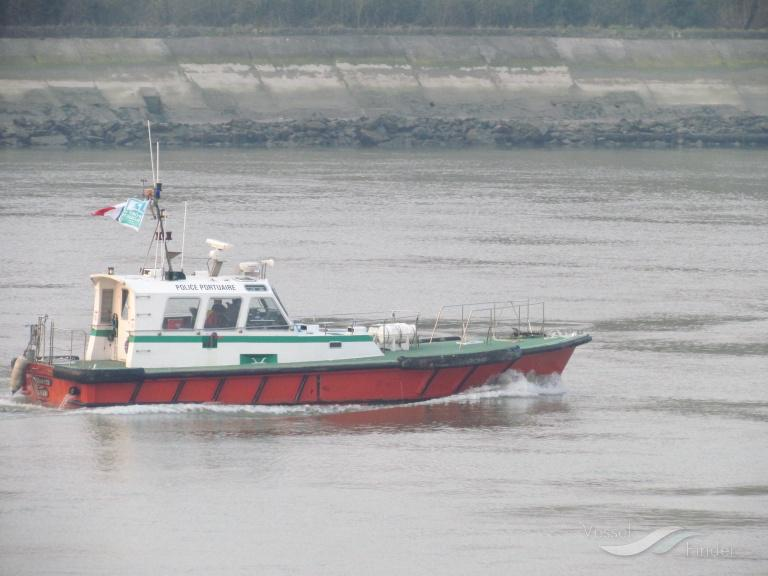OCR: (172, 276, 234, 292)
